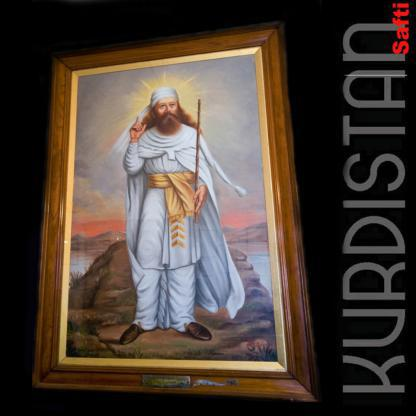Picture-frame: (34, 24, 323, 406)
